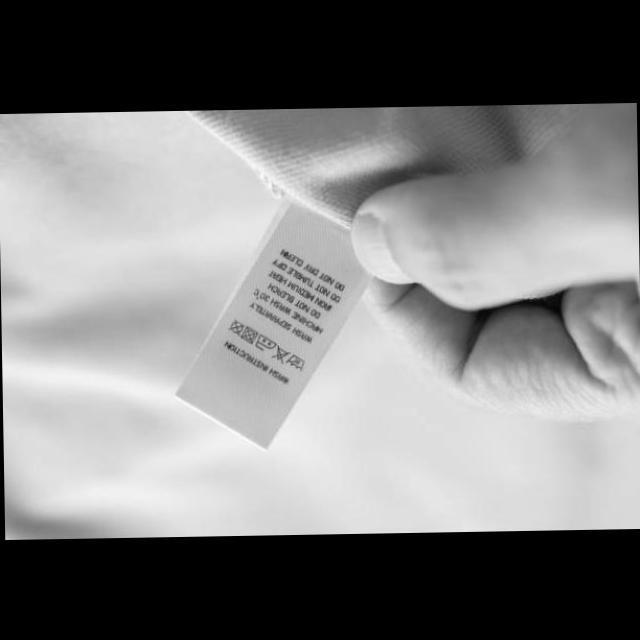30C: (282, 352, 304, 372)
DN_bleach: (270, 342, 290, 363)
DN_dry_clean: (226, 316, 244, 336)
DN_tumble_dry: (236, 323, 258, 344)
iron_medium: (253, 332, 278, 351)
